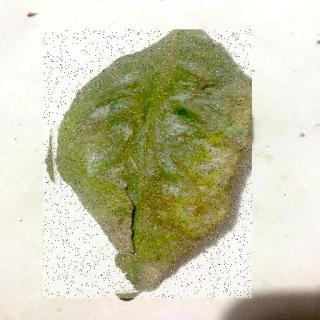Red Leaf Spot: (44, 31, 253, 300)
